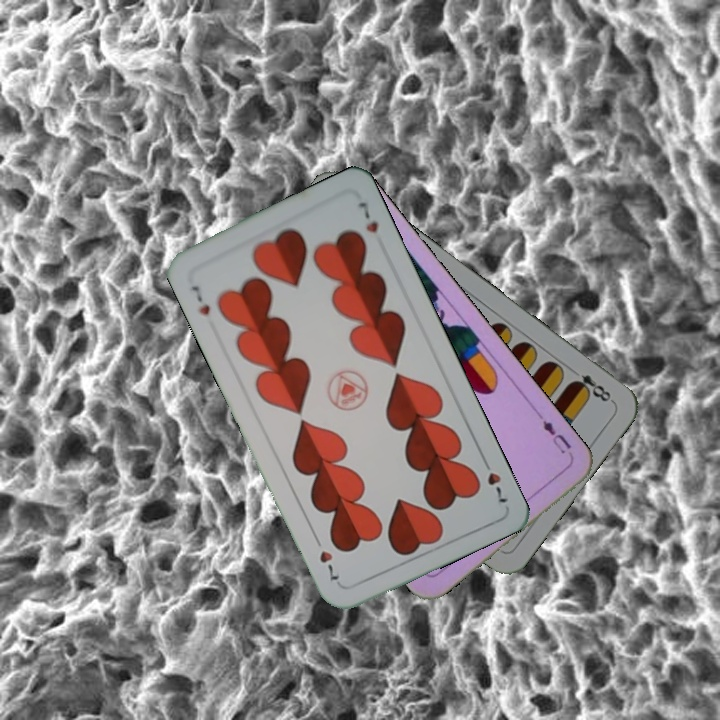E8: (567, 370, 616, 405)
EU: (534, 410, 574, 457)
H7: (477, 453, 511, 508), (187, 281, 213, 318)
